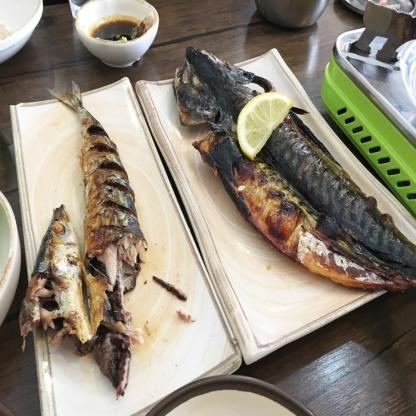Peixe: (178, 44, 416, 309), (12, 102, 151, 390)
